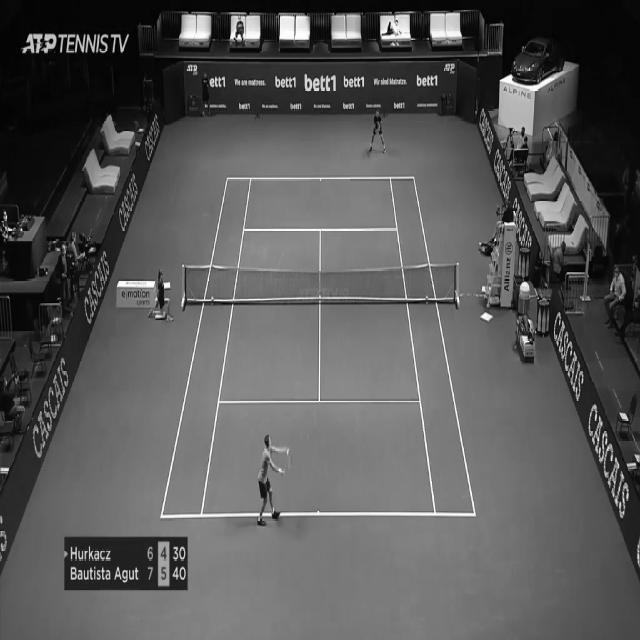tennis-court: (161, 177, 476, 518)
